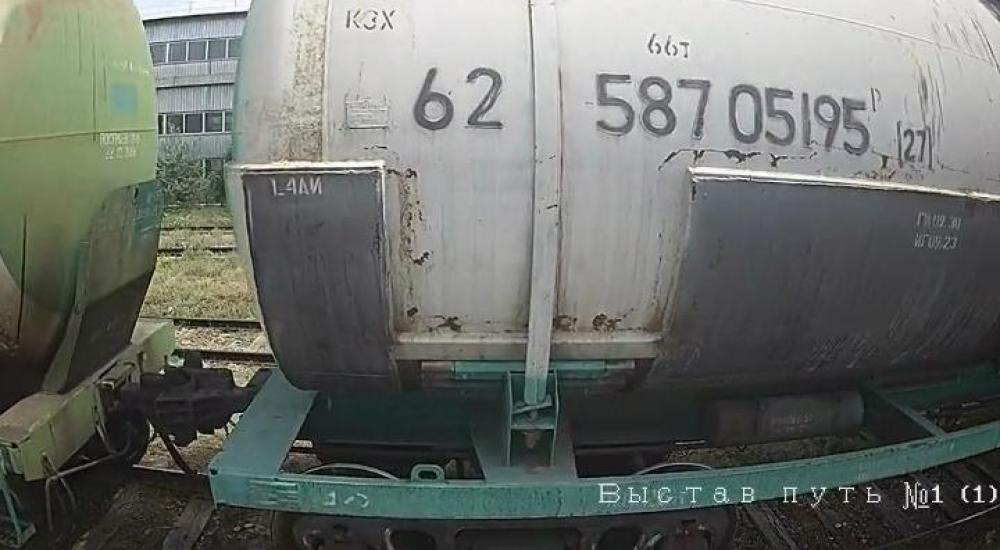Wagon-number: (588, 72, 874, 160)
